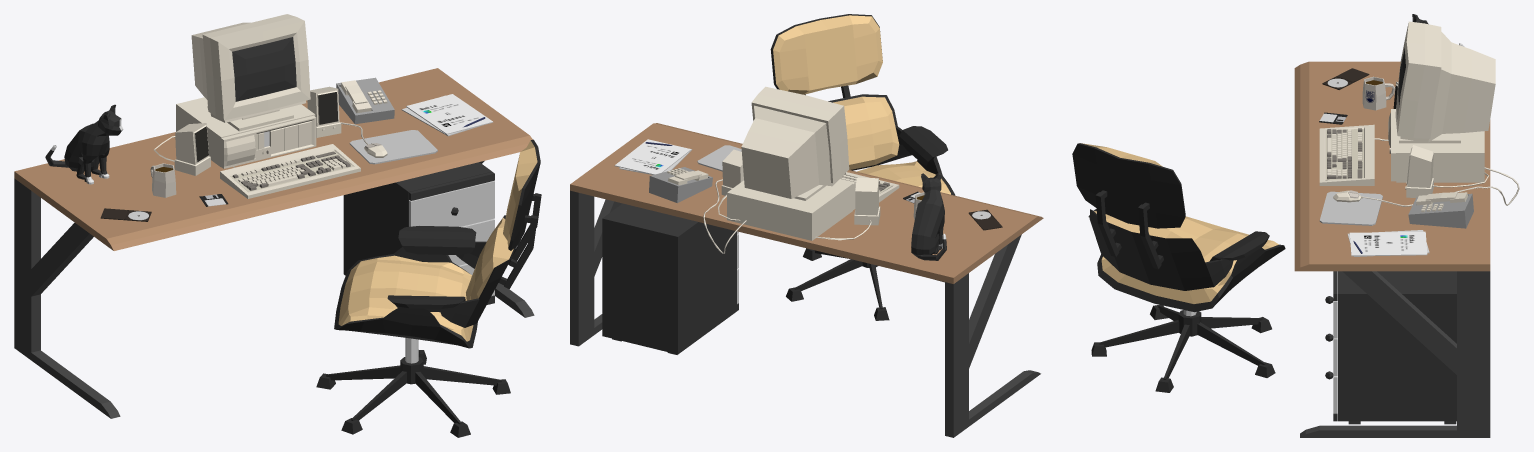
File: newcat.glb
3 renders of one model, left to right at view 1: azimuth 30°, elevation 25°; view 2: azimuth 150°, elevation 25°; view 3: azimuth 270°, elevation 25°, orthographic. The views are drawn at different scales.
Parts seen in each view (by area): view 1: Office_desk_ComputerDesk_0, Cube.000_ComputerDesk_0, Drawers_ComputerDesk_0, Computer_monitor.001_ComputerDesk_0, Computer_case_ComputerDesk_0, Keyboard_ComputerDesk_0, ComputerScreen, Cube.010_WhiteFur_0, EXPERIENCE PAPER, Mousepad_ComputerDesk_0, SpeakerR_ComputerDesk_0, Phone_stand_ComputerDesk_0 (+3 smaller); view 2: Office_desk_ComputerDesk_0, Drawers_ComputerDesk_0, Cube.000_ComputerDesk_0, Computer_monitor.001_ComputerDesk_0, Computer_case_ComputerDesk_0, Cube.010_WhiteFur_0, EXPERIENCE PAPER, Phone_stand_ComputerDesk_0, SpeakerR_ComputerDesk_0, SpeakerL_ComputerDesk_0, Mousepad_ComputerDesk_0; view 3: Office_desk_ComputerDesk_0, Cube.000_ComputerDesk_0, Drawers_ComputerDesk_0, Computer_monitor.001_ComputerDesk_0, Computer_case_ComputerDesk_0, Keyboard_ComputerDesk_0, EXPERIENCE PAPER, Mousepad_ComputerDesk_0, Phone_stand_ComputerDesk_0, SpeakerL_ComputerDesk_0, Cup, Phonehandle_ComputerDesk_0.
Part boxes in pixels (x1,y1,x2,y2): Office_desk_ComputerDesk_0: [14, 68, 534, 418]; Cube.000_ComputerDesk_0: [316, 139, 541, 437]; Drawers_ComputerDesk_0: [343, 162, 494, 304]; Computer_monitor.001_ComputerDesk_0: [191, 14, 310, 131]; Computer_case_ComputerDesk_0: [176, 97, 316, 168]; Keyboard_ComputerDesk_0: [220, 144, 360, 198]; ComputerScreen: [232, 37, 296, 101]; Cube.010_WhiteFur_0: [45, 104, 122, 184]; EXPERIENCE PAPER: [406, 94, 492, 133]; Mousepad_ComputerDesk_0: [349, 130, 437, 164]; SpeakerR_ComputerDesk_0: [174, 123, 210, 175]; Phone_stand_ComputerDesk_0: [336, 77, 394, 124]; Office_desk_ComputerDesk_0: [570, 123, 1043, 437]; Drawers_ComputerDesk_0: [602, 203, 738, 354]; Cube.000_ComputerDesk_0: [770, 14, 955, 320]; Computer_monitor.001_ComputerDesk_0: [741, 86, 849, 200]; Computer_case_ComputerDesk_0: [727, 179, 855, 240]; Cube.010_WhiteFur_0: [911, 172, 946, 260]; EXPERIENCE PAPER: [615, 139, 690, 174]; Phone_stand_ComputerDesk_0: [649, 167, 712, 202]; SpeakerR_ComputerDesk_0: [854, 177, 880, 225]; SpeakerL_ComputerDesk_0: [721, 149, 743, 195]; Mousepad_ComputerDesk_0: [697, 145, 741, 171]; Office_desk_ComputerDesk_0: [1294, 61, 1490, 437]; Cube.000_ComputerDesk_0: [1072, 143, 1285, 392]; Drawers_ComputerDesk_0: [1325, 271, 1456, 424]; Computer_monitor.001_ComputerDesk_0: [1395, 21, 1495, 143]; Computer_case_ComputerDesk_0: [1388, 109, 1484, 182]; Keyboard_ComputerDesk_0: [1319, 124, 1374, 185]; EXPERIENCE PAPER: [1349, 231, 1427, 255]; Mousepad_ComputerDesk_0: [1319, 191, 1382, 225]; Phone_stand_ComputerDesk_0: [1408, 193, 1473, 228]; SpeakerL_ComputerDesk_0: [1405, 145, 1433, 197]; Cup: [1362, 76, 1395, 110]; Phonehandle_ComputerDesk_0: [1416, 192, 1467, 205].
Bounding box in the file's own units: 11.82 × 7.93 × 11.01.
Materials: 9 (4 with a texture image).
